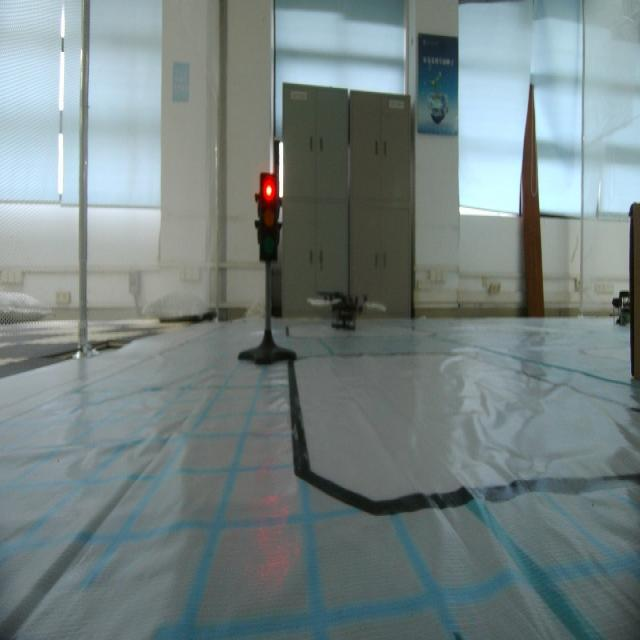red: (256, 166, 281, 266)
